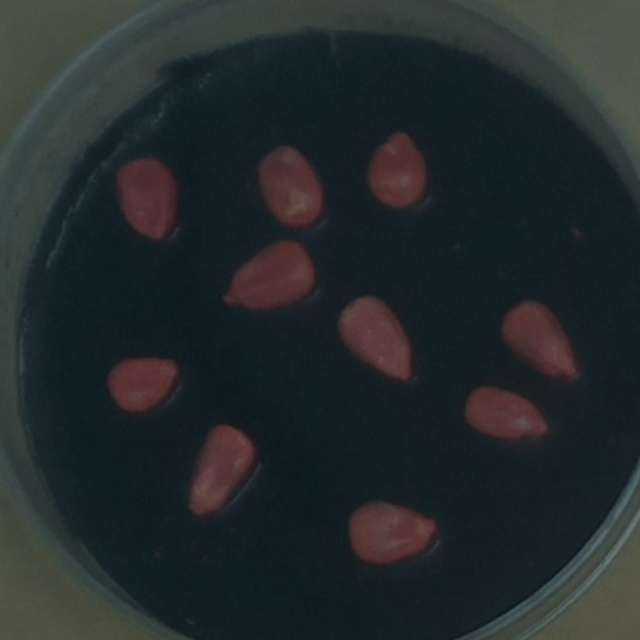Zea mays: (213, 230, 325, 320), (329, 286, 424, 392), (180, 414, 264, 523), (493, 292, 589, 387), (338, 490, 447, 572), (103, 149, 189, 250), (249, 133, 329, 234), (456, 375, 557, 449), (358, 123, 434, 219), (97, 350, 188, 421)
